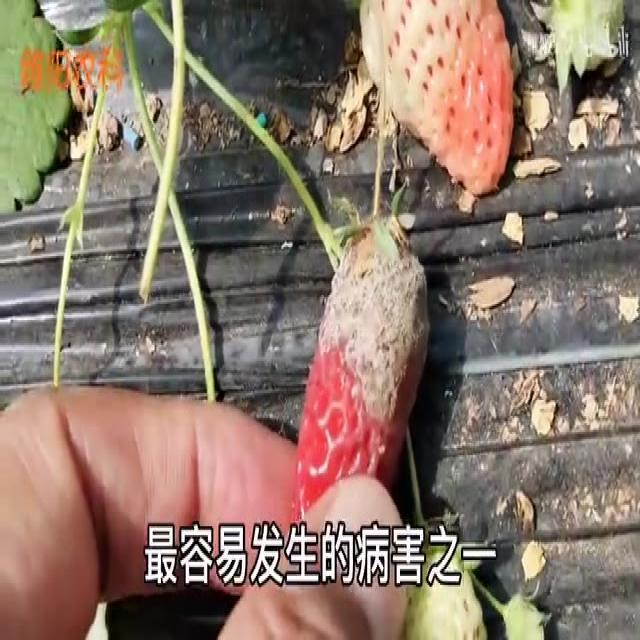Moho gris: (298, 194, 427, 508)
